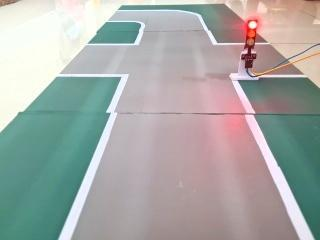red: (235, 14, 261, 59)
